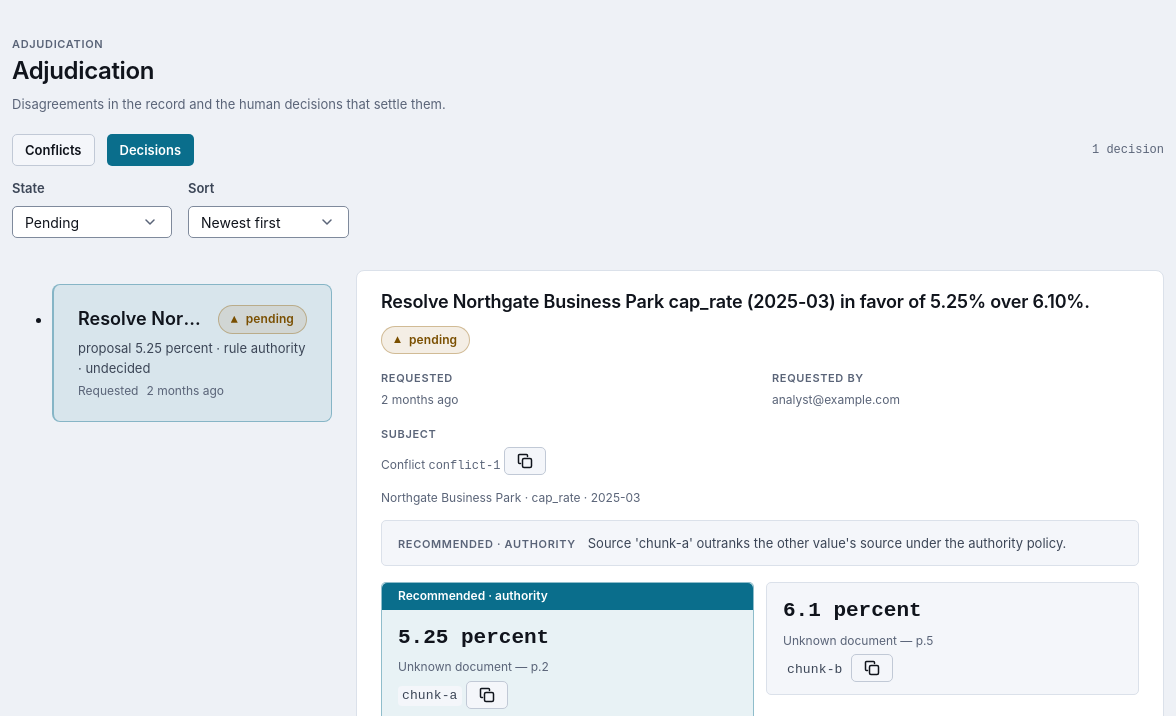
Test: AdjudicationPage › requests the decisions state filter at once and clears the selection
Check: the text "Resolve Northgate Business Park cap_rate (2025-03) in favor of 5.25% over 6.10%." is shown, box [78,305,206,333]
Select "Rejected" in the dropdown labelled "State" at point(92, 222), box [12,206,172,238]
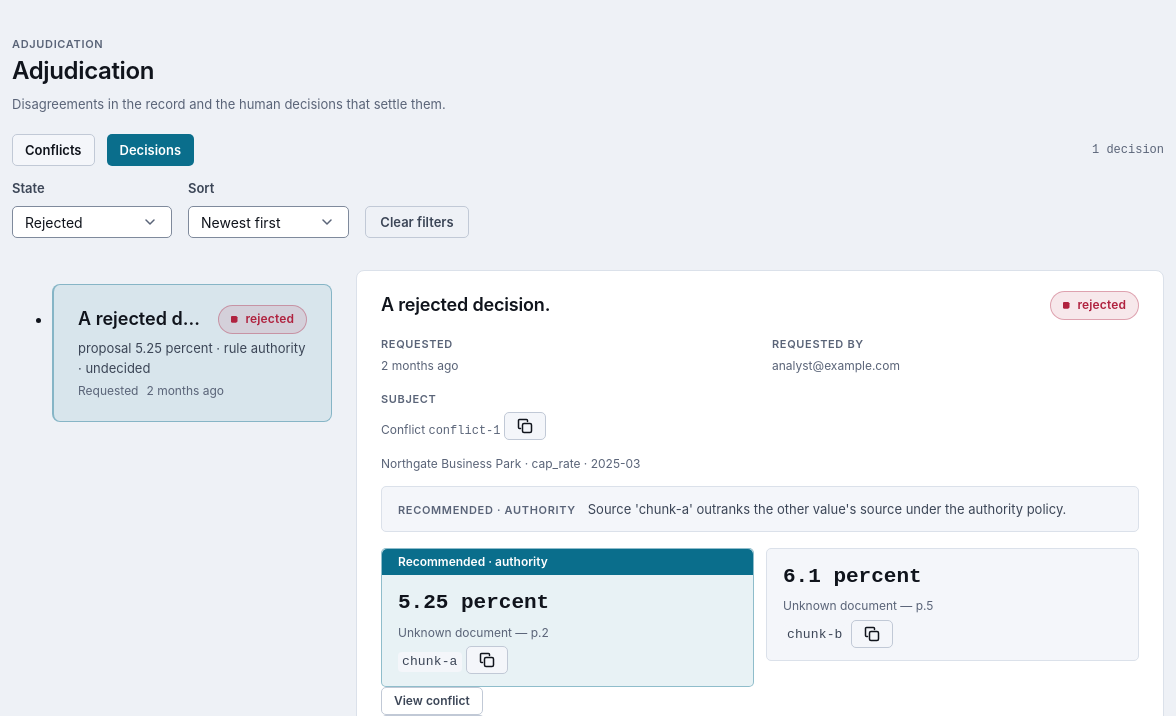
Check: the text "A rejected decision." is shown, box [78,305,206,333]
Click the button "Clear filters" at point(417, 222), box [365,206,469,238]
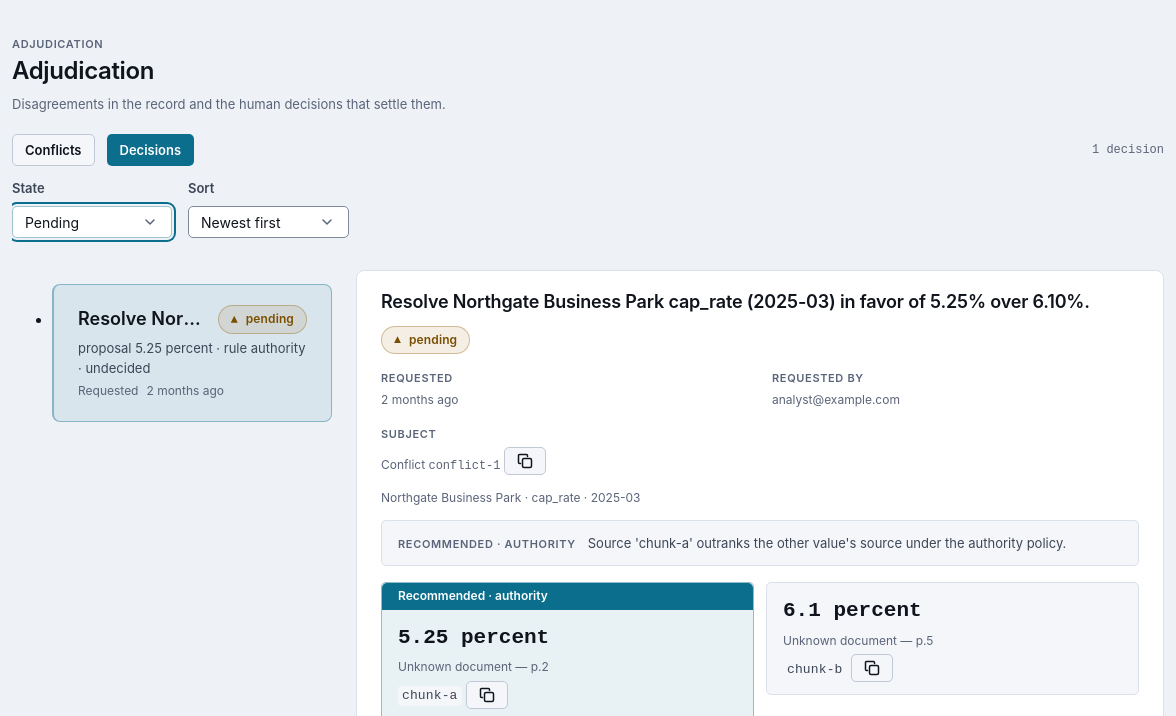
Check: the text "Resolve Northgate Business Park cap_rate (2025-03) in favor of 5.25% over 6.10%." is shown, box [78,305,206,333]
